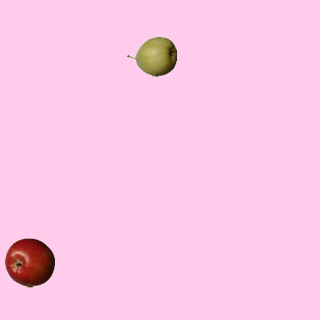Apple Braeburn: (4, 237, 54, 287)
Pear: (126, 31, 176, 81)
